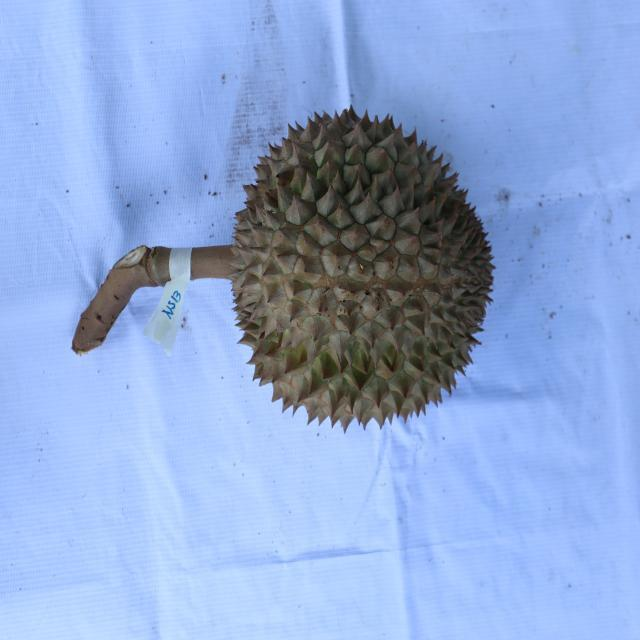mature: (227, 102, 495, 436)
